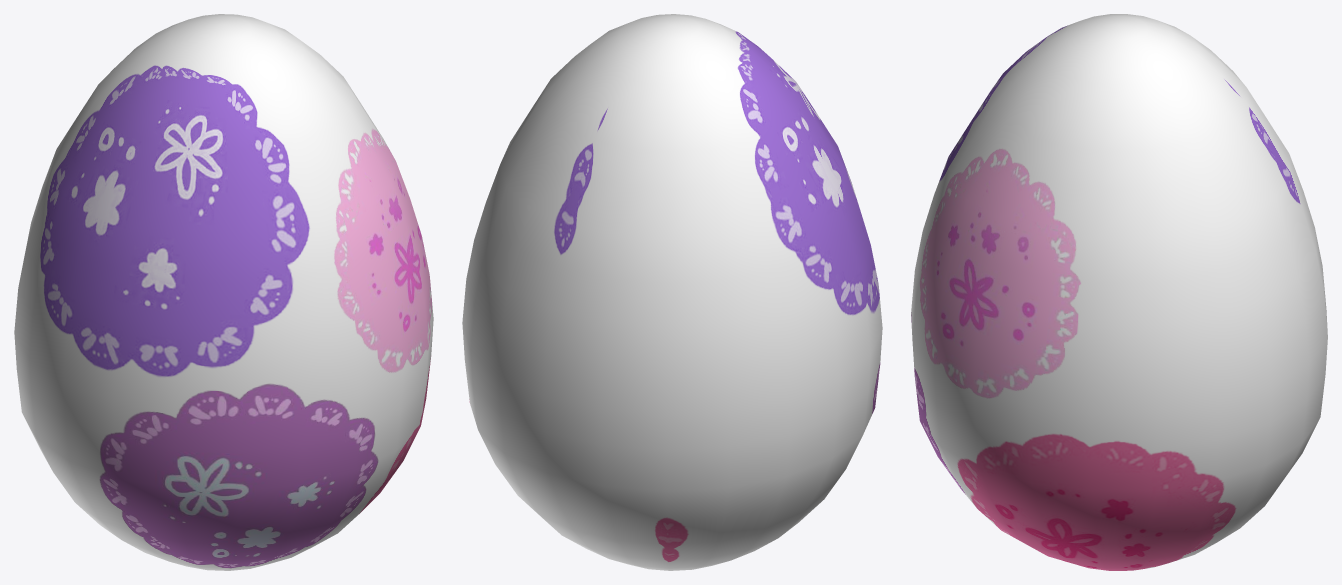
The model's file is resu.fbx.
3 renders of one model, left to right at view 1: azimuth 30°, elevation 25°; view 2: azimuth 150°, elevation 25°; view 3: azimuth 270°, elevation 25°, orthographic.
Visible parts, largest first — view 1: pSphere4; view 2: pSphere4; view 3: pSphere4.
Part boxes in pixels (bbox=[...]): pSphere4: bbox=[14, 14, 433, 570]; pSphere4: bbox=[462, 14, 882, 570]; pSphere4: bbox=[911, 14, 1327, 570].
Size of the model in its own units: 2.12 by 2.96 by 2.12.
1 material, 1 textured.
